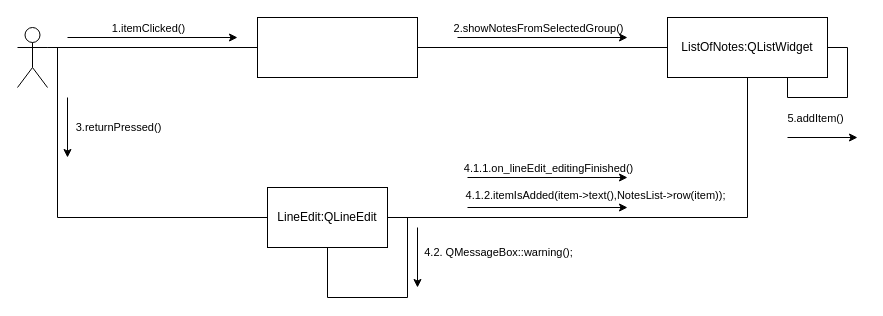
Image size: 883x316. Some labels were removed from this diagram. The shapes that lost their labels are listed below. From the top down, each one's centre as x and y in pixels, then its label:
At [32,57]: "Actor".
At [337,47]: "ListOfGroups:QListWidget".
